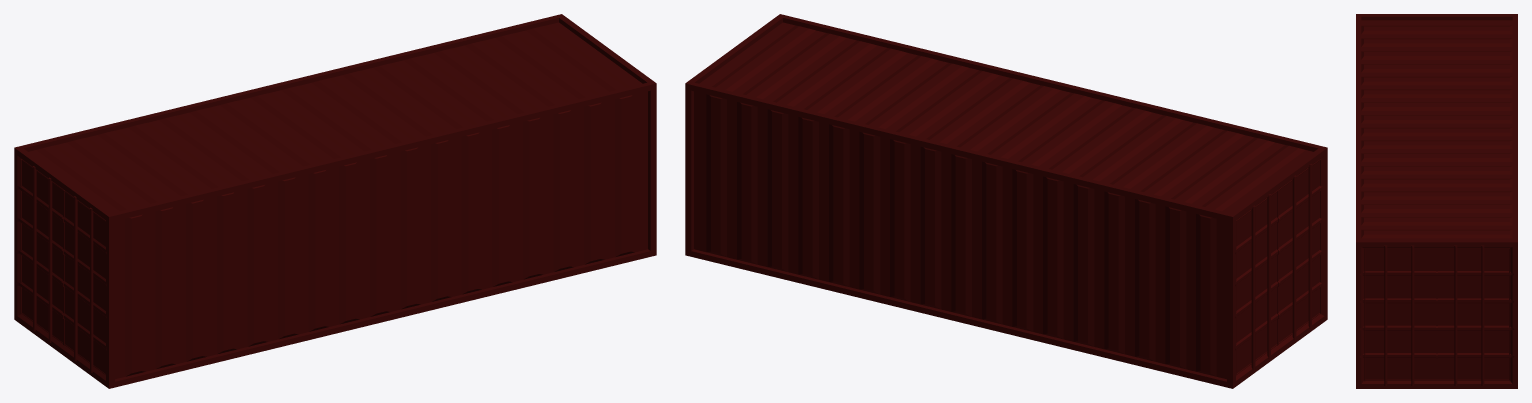
The model's file is ShippingContainer.gltf.
The picture shows the model from 3 angles, left to right: view 1: azimuth 30°, elevation 25°; view 2: azimuth 150°, elevation 25°; view 3: azimuth 270°, elevation 25°; orthographic projection. The views are drawn at different scales.
Parts seen in each view (by area): view 1: Cube; view 2: Cube; view 3: Cube.
Boxes of the visible parts, box(x1,y1,x2,y2) form: Cube: box(14, 14, 656, 388); Cube: box(685, 14, 1327, 388); Cube: box(1356, 14, 1517, 388).
Bounding box in the file's own units: 28.29 × 8.44 × 8.44.
1 material, 1 textured.
